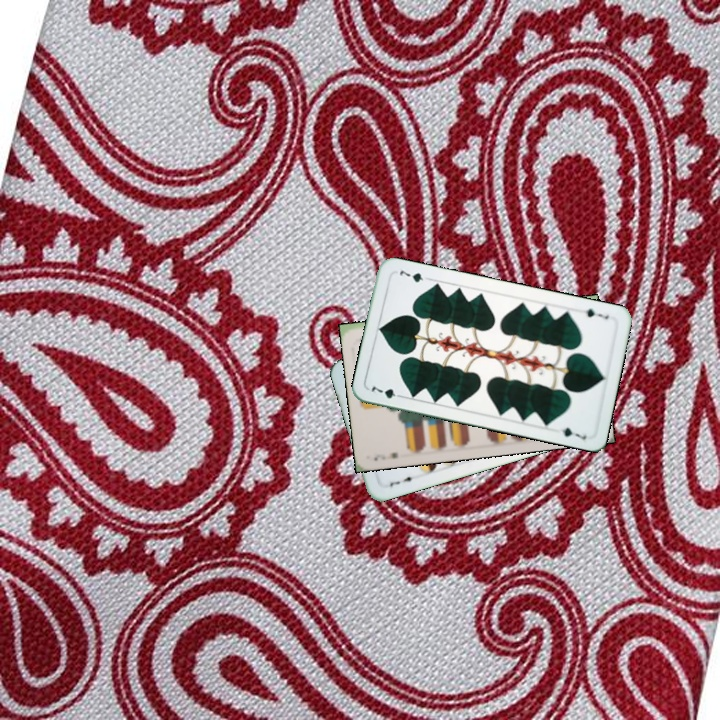E7: (386, 472, 419, 489), (369, 449, 401, 463)
G7: (367, 382, 407, 401), (576, 305, 611, 321)
